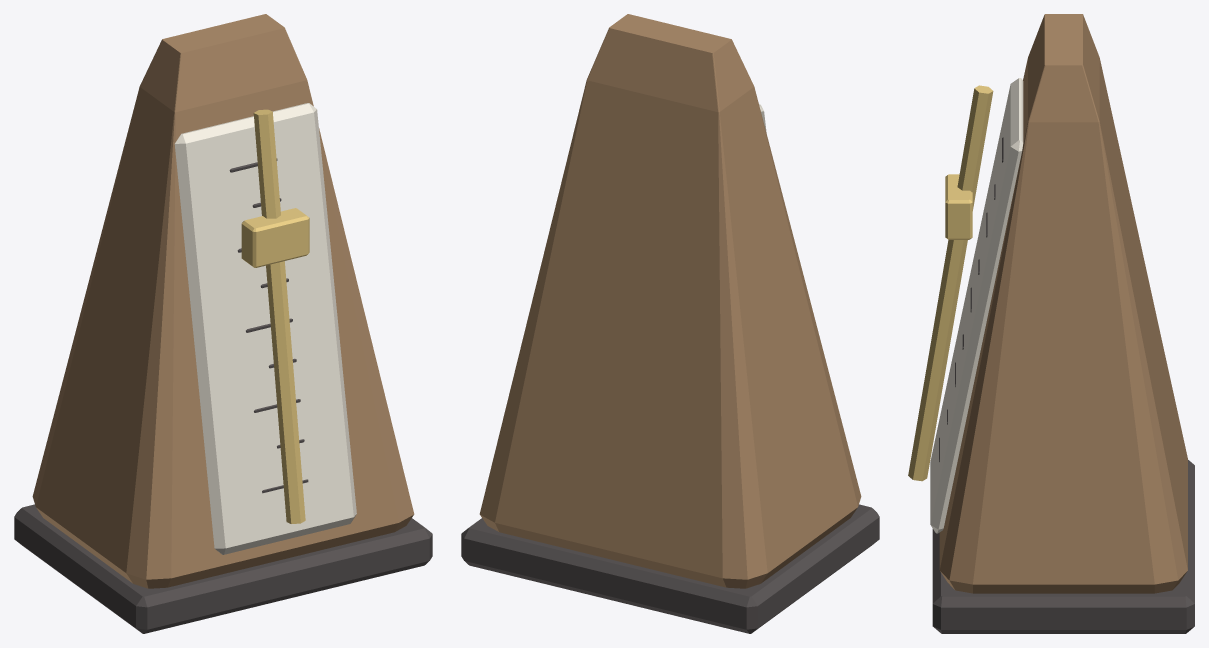
Rendered from orchestra-and-band-instruments-metronome-8ddd4b5b__39311.glb.
3 renders of one model, left to right at view 1: azimuth 30°, elevation 25°; view 2: azimuth 150°, elevation 25°; view 3: azimuth 270°, elevation 25°, orthographic.
Parts seen in each view (by area): view 1: metronome, pendulum; view 2: metronome; view 3: metronome, pendulum.
Part boxes in pixels (x1,y1,x2,y2): metronome: (14,14,432,633); pendulum: (241,109,309,523); metronome: (461,14,879,633); metronome: (930,14,1194,633); pendulum: (908,85,993,481).
Bounding box in the file's own units: 0.125 × 0.21 × 0.104.
